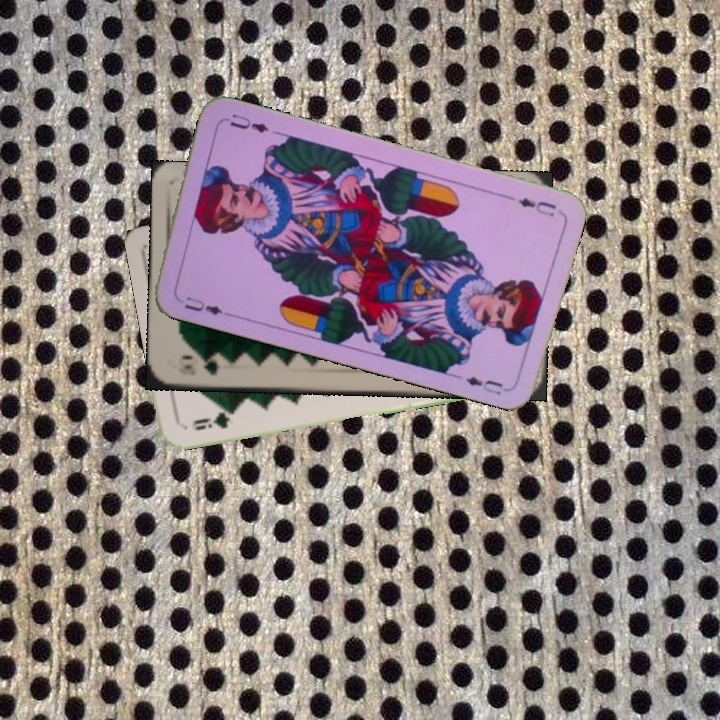EU: (514, 193, 559, 220), (180, 292, 225, 318)
G10: (180, 355, 221, 378)
G9: (189, 405, 239, 433)
